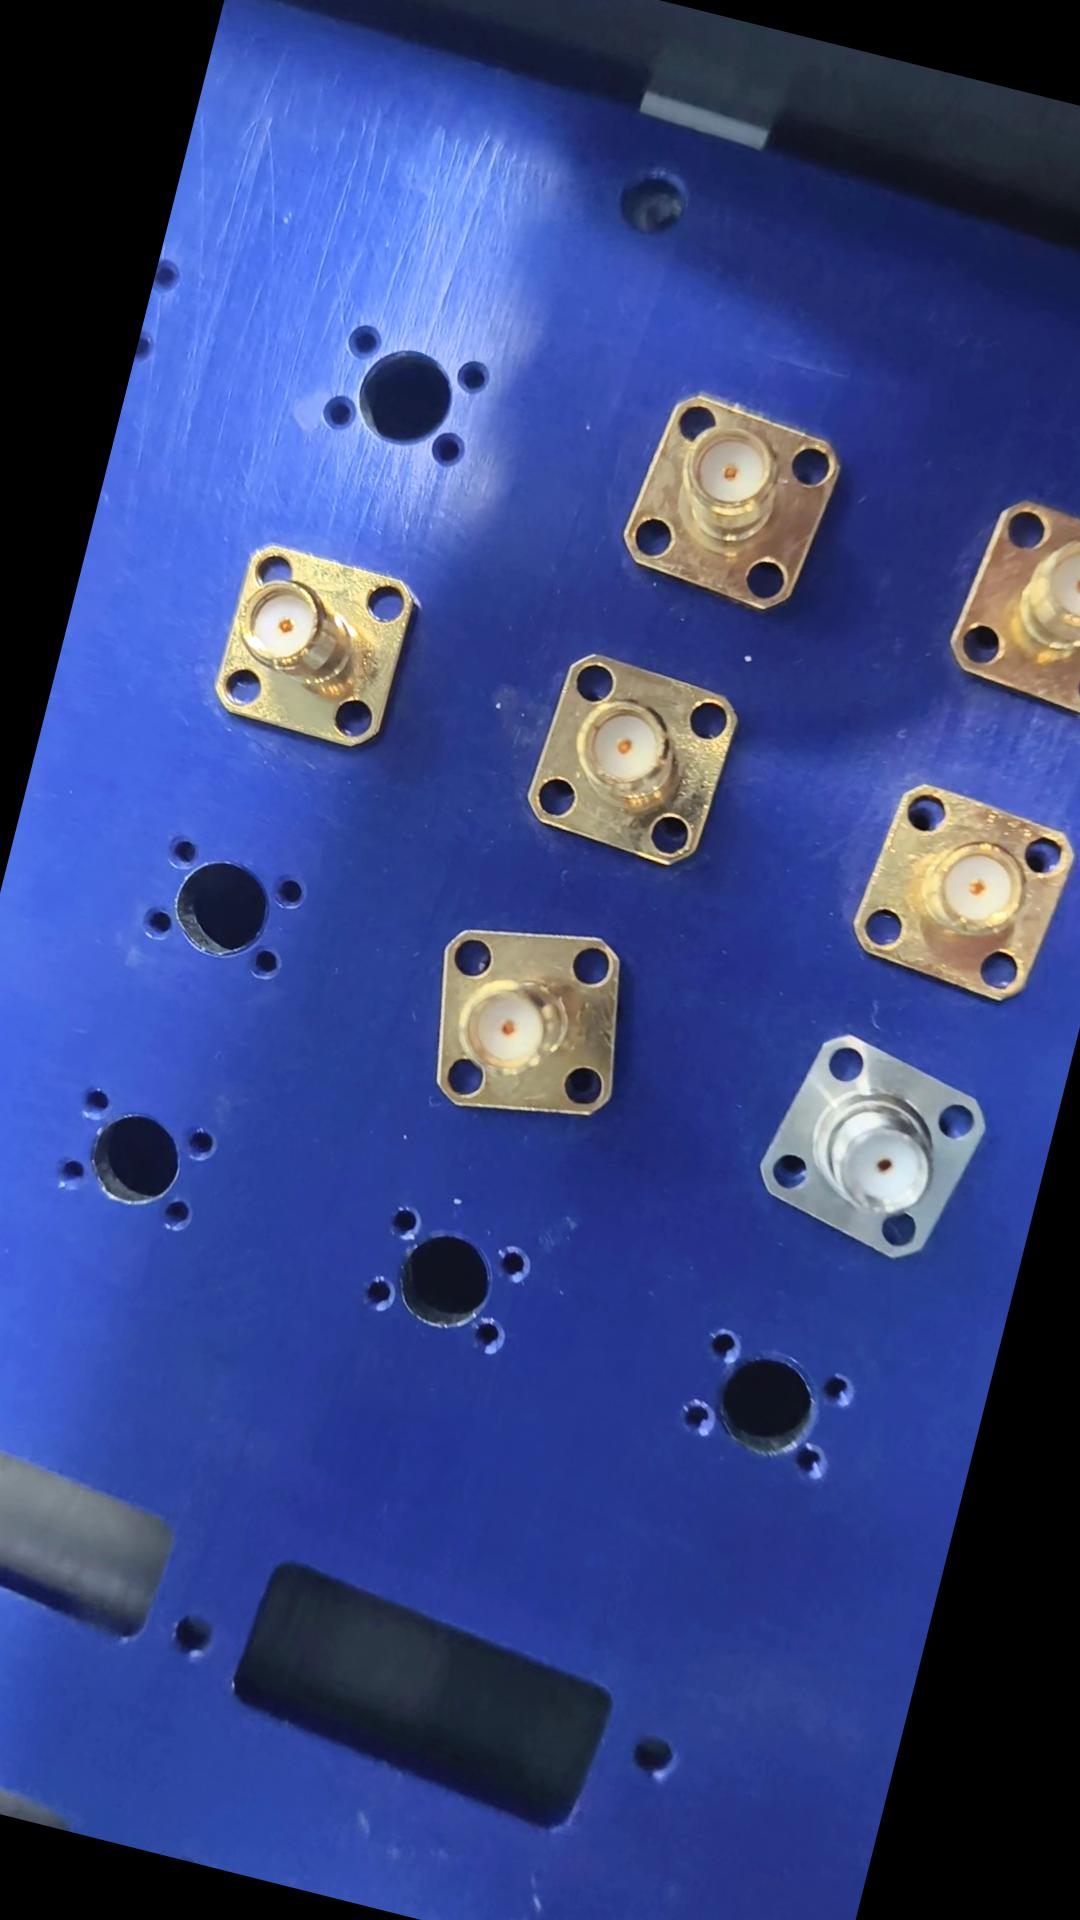SMA: (724, 1009, 997, 1279), (828, 767, 1076, 1021), (497, 640, 750, 887), (396, 895, 647, 1143), (597, 378, 853, 618), (193, 529, 425, 760), (923, 498, 1080, 737)
